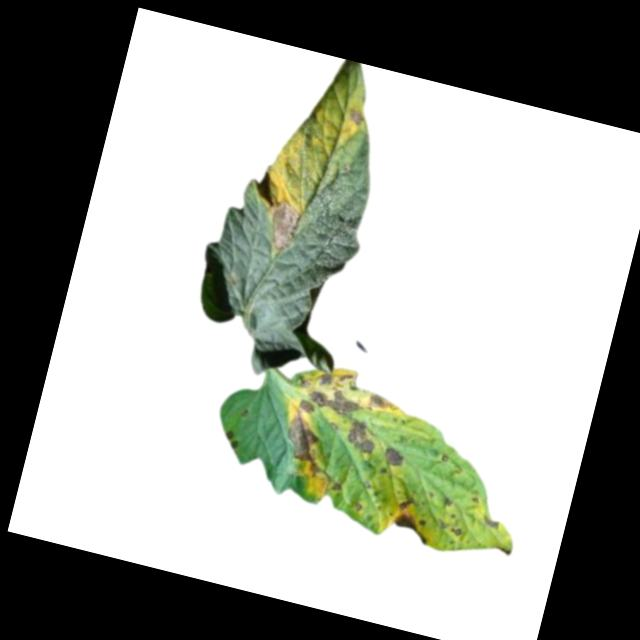Early_blight: (292, 357, 401, 435), (275, 411, 334, 480), (387, 495, 436, 545), (261, 201, 306, 255), (339, 421, 379, 458), (381, 445, 405, 471), (436, 521, 463, 541), (341, 106, 366, 126), (222, 430, 240, 451), (481, 515, 502, 531), (440, 496, 454, 511), (329, 481, 341, 494)
